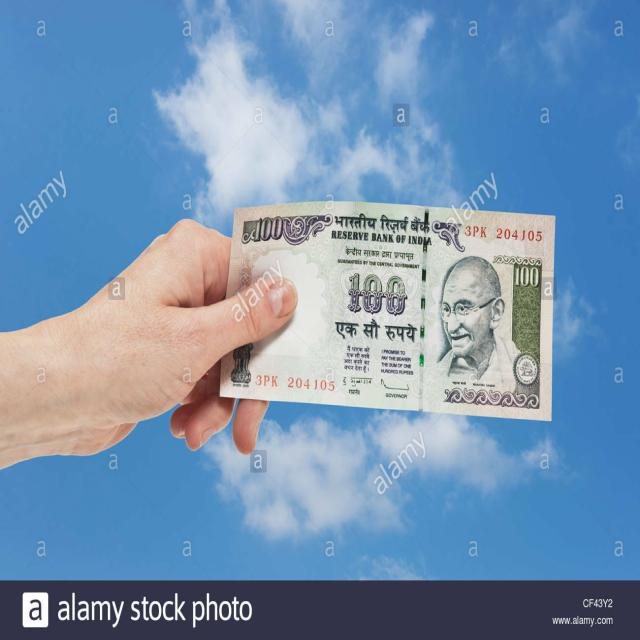100IndianRupees: (219, 202, 552, 404)
